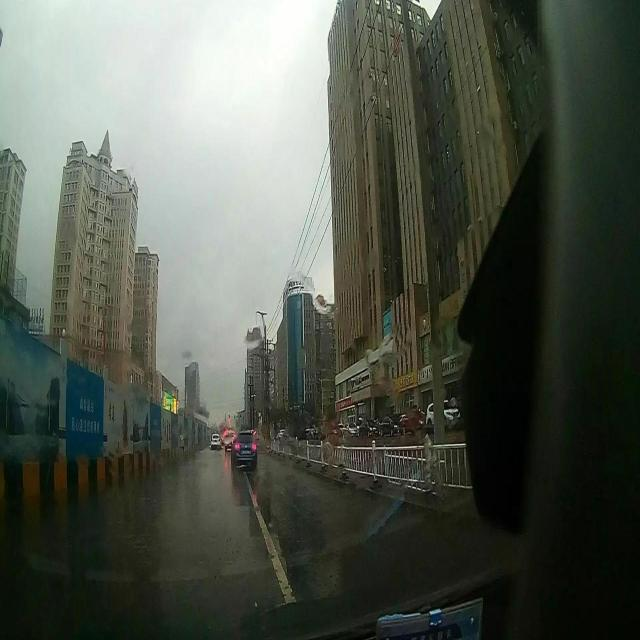car: (230, 433, 258, 471), (223, 430, 233, 453), (210, 432, 220, 449)
